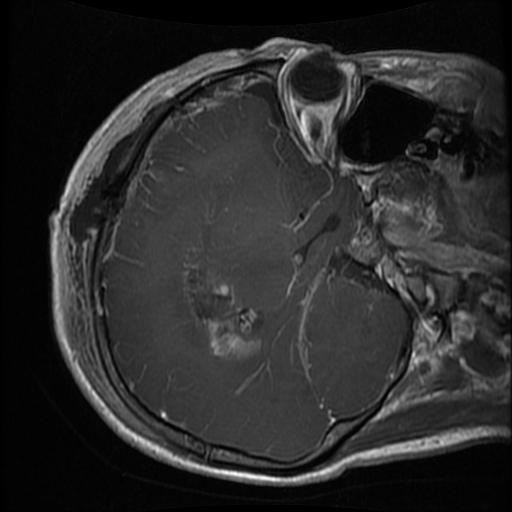glioma: (184, 246, 263, 364)
